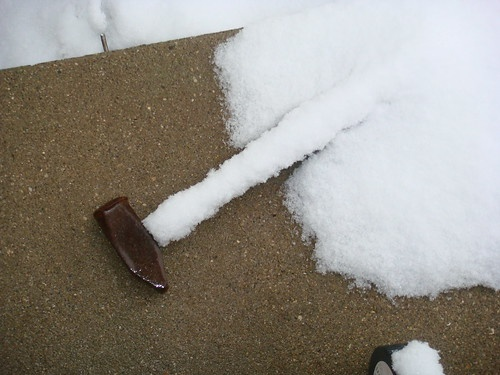hammer: (91, 79, 368, 294)
